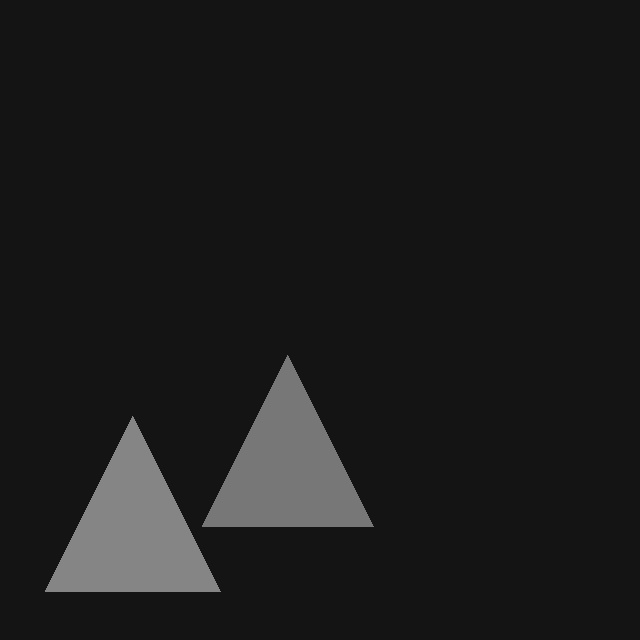triangle: (45, 416, 220, 591), (202, 355, 373, 526)
